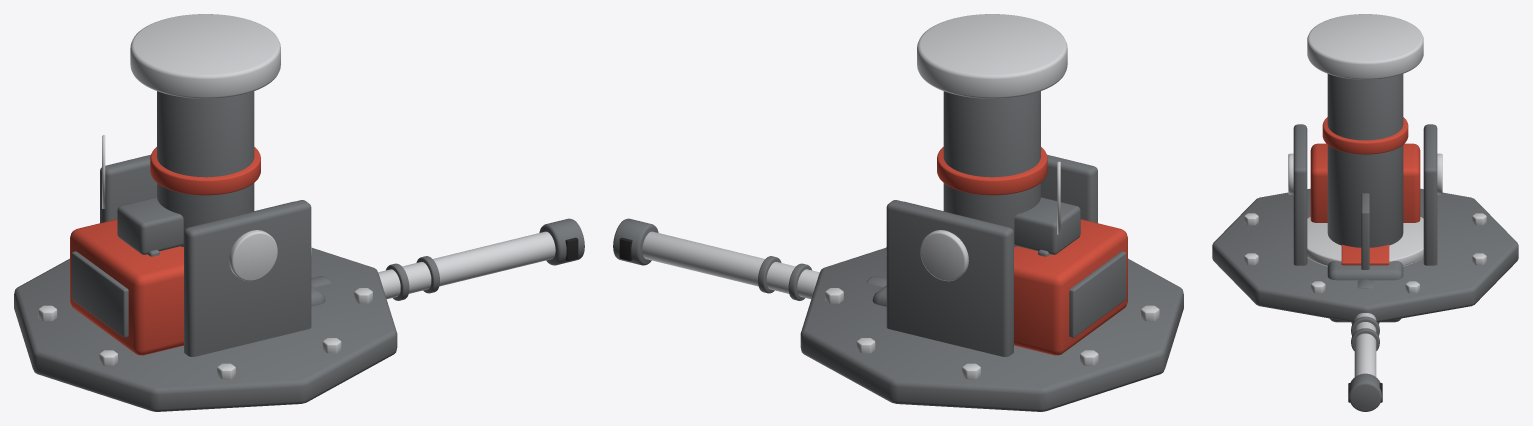
The model's file is torreta.glb.
3 renders of one model, left to right at view 1: azimuth 30°, elevation 25°; view 2: azimuth 150°, elevation 25°; view 3: azimuth 270°, elevation 25°, orthographic. The views are drawn at different scales.
Visible parts, largest first — view 1: base, cabezal, canon; view 2: base, cabezal, canon; view 3: base, cabezal, canon.
Part boxes in pixels (left/top/right/bottom): base: left=14, top=14, right=397, bottom=411; cabezal: left=70, top=135, right=311, bottom=356; canon: left=311, top=218, right=584, bottom=306; base: left=800, top=14, right=1183, bottom=411; cabezal: left=886, top=154, right=1127, bottom=356; canon: left=613, top=218, right=886, bottom=306; base: left=1212, top=14, right=1518, bottom=322; cabezal: left=1288, top=124, right=1442, bottom=266; canon: left=1327, top=244, right=1403, bottom=411.
Size of the model in its own units: 1.41 by 0.805 by 0.8946.
